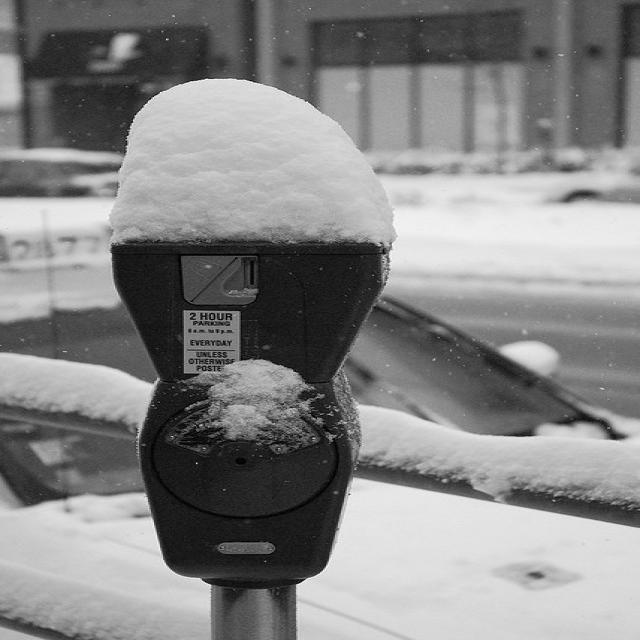Vehicle: (0, 195, 640, 632), (1, 146, 123, 194), (544, 156, 640, 204)
